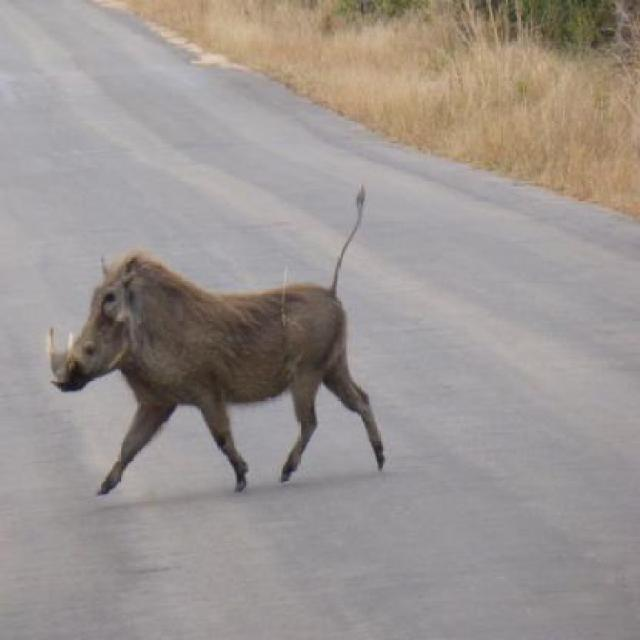pig: (47, 183, 386, 497)
